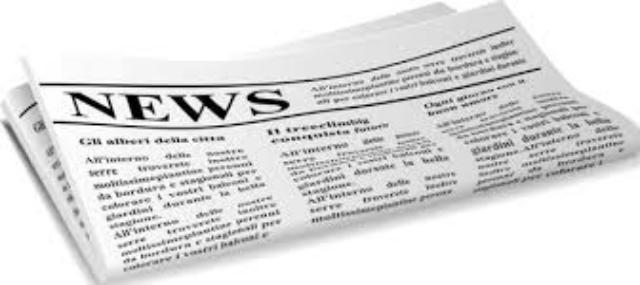cardboard paper: (2, 2, 636, 280)
